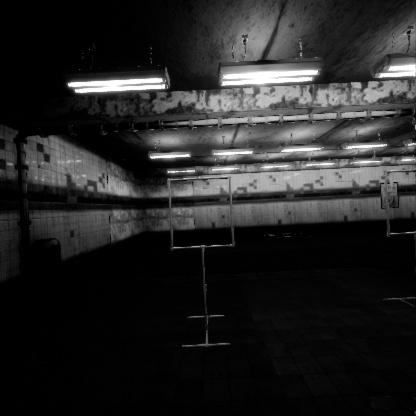gate: (167, 165, 240, 240), (384, 179, 416, 248)
